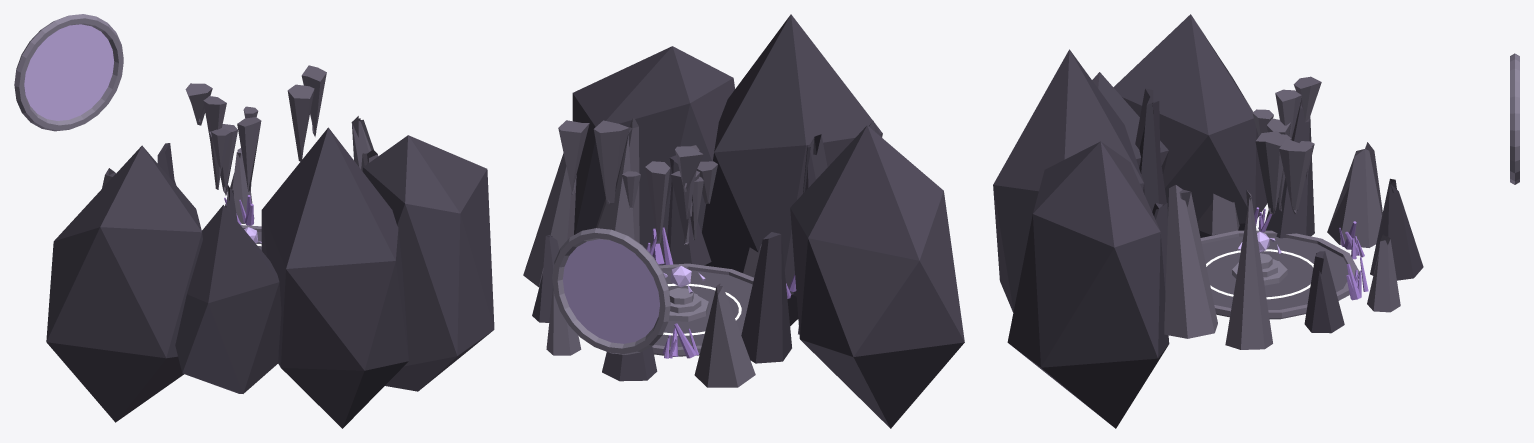
Rendered from FinalBossCave.fbx.
The picture shows the model from 3 angles, left to right: view 1: azimuth 30°, elevation 25°; view 2: azimuth 150°, elevation 25°; view 3: azimuth 270°, elevation 25°; orthographic projection. The views are drawn at different scales.
Visible parts, largest first — view 1: Backdrop_2, Backdrop_0, Backdrop_3, Backdrop_1, Portal_Disc, Portal_Ring, Stalactite_7, Stalactite_6, Stalactite_0, Spire_2, Spire_0, Stalactite_4 (+3 smaller); view 2: Backdrop_0, Backdrop_2, Backdrop_3, Portal_Disc, Spire_5, Portal_Ring, Spire_4, Spire_0, Arena_Floor, Spire_10, Stalactite_7, Spire_9 (+13 smaller); view 3: Backdrop_3, Backdrop_0, Backdrop_2, Spire_10, Arena_Floor, Spire_0, Spire_4, Spire_3, Spire_7, Spire_5, Spire_1, Spire_2 (+9 smaller).
Boxes of the visible parts, left/top/right/bottom form: Backdrop_2: left=261, top=127, right=408, bottom=428; Backdrop_0: left=46, top=145, right=202, bottom=422; Backdrop_3: left=362, top=135, right=494, bottom=391; Backdrop_1: left=175, top=205, right=281, bottom=393; Portal_Disc: left=24, top=24, right=114, bottom=120; Portal_Ring: left=14, top=14, right=123, bottom=131; Stalactite_7: left=287, top=84, right=314, bottom=161; Stalactite_6: left=237, top=117, right=261, bottom=191; Stalactite_0: left=301, top=65, right=326, bottom=136; Spire_2: left=225, top=148, right=254, bottom=223; Spire_0: left=351, top=116, right=373, bottom=169; Stalactite_4: left=185, top=83, right=212, bottom=125; Backdrop_0: left=790, top=125, right=964, bottom=428; Backdrop_2: left=702, top=14, right=882, bottom=326; Backdrop_3: left=572, top=46, right=734, bottom=265; Portal_Disc: left=562, top=239, right=659, bottom=343; Spire_5: left=741, top=232, right=791, bottom=363; Portal_Ring: left=552, top=228, right=670, bottom=354; Spire_4: left=694, top=283, right=755, bottom=387; Spire_0: left=523, top=153, right=576, bottom=287; Arena_Floor: left=654, top=270, right=752, bottom=356; Spire_10: left=596, top=118, right=639, bottom=242; Stalactite_7: left=593, top=120, right=629, bottom=205; Spire_9: left=667, top=155, right=711, bottom=265; Backdrop_3: left=1007, top=141, right=1169, bottom=428; Backdrop_0: left=1113, top=14, right=1267, bottom=237; Backdrop_2: left=993, top=49, right=1144, bottom=312; Spire_10: left=1164, top=185, right=1217, bottom=338; Arena_Floor: left=1202, top=236, right=1348, bottom=319; Spire_0: left=1225, top=189, right=1272, bottom=349; Spire_4: left=1327, top=142, right=1382, bottom=247; Spire_3: left=1370, top=178, right=1423, bottom=280; Spire_7: left=1135, top=88, right=1168, bottom=217; Spire_5: left=1265, top=104, right=1314, bottom=238; Spire_1: left=1304, top=251, right=1344, bottom=333; Spire_2: left=1367, top=234, right=1400, bottom=312.
Bounding box in the file's own units: 4192 × 3069 × 4543.
